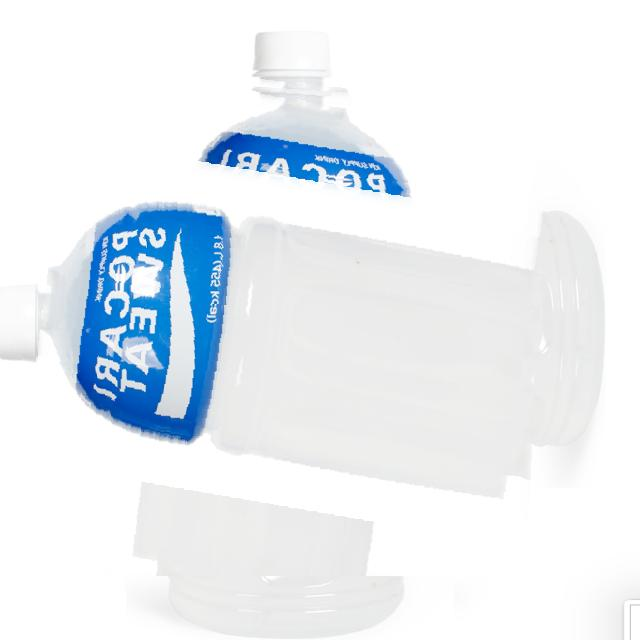recyclable: (38, 72, 542, 576)
